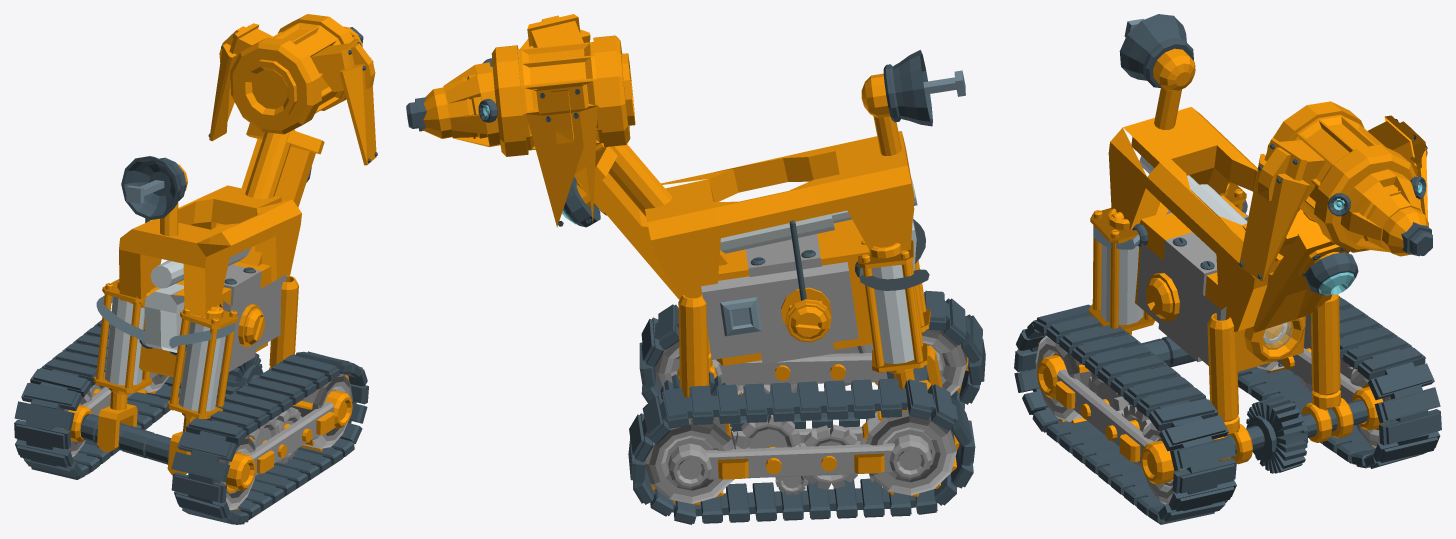
The model's file is mars-rover.glb.
The picture shows the model from 3 angles, left to right: view 1: azimuth 30°, elevation 25°; view 2: azimuth 150°, elevation 25°; view 3: azimuth 270°, elevation 25°; orthographic projection. The views are drawn at different scales.
Visible parts, largest first — view 1: group192010149, group343780156, group730140109, group1748690743, group533229908, group1092366937, group1747572662, group1024206981, group486838092, group1180262752, group1332635863, group1579868290 (+4 smaller); view 2: group730140109, group343780156, group533229908, group192010149, group1748690743, group1332635863, group1747572662, group1024206981, group1180262752, group357280235, group1874504314, group486838092 (+1 smaller); view 3: group192010149, group343780156, group730140109, group533229908, group1748690743, group486838092, group1180262752, group1874504314, group357280235, group1092366937, group1747572662, group424021502 (+5 smaller).
Part boxes in pixels (x1=…): group192010149: x1=171, y1=351, x2=368, y2=524; group343780156: x1=119, y1=185, x2=301, y2=352; group730140109: x1=14, y1=320, x2=181, y2=479; group1748690743: x1=230, y1=14, x2=353, y2=134; group533229908: x1=96, y1=218, x2=286, y2=379; group1092366937: x1=167, y1=305, x2=238, y2=419; group1747572662: x1=215, y1=123, x2=324, y2=266; group1024206981: x1=93, y1=279, x2=156, y2=394; group486838092: x1=310, y1=39, x2=377, y2=165; group1180262752: x1=121, y1=156, x2=187, y2=236; group1332635863: x1=208, y1=23, x2=272, y2=141; group1579868290: x1=80, y1=414, x2=191, y2=464; group730140109: x1=628, y1=378, x2=975, y2=524; group343780156: x1=645, y1=131, x2=917, y2=298; group533229908: x1=701, y1=219, x2=929, y2=365; group192010149: x1=639, y1=290, x2=985, y2=431; group1748690743: x1=490, y1=35, x2=635, y2=156; group1332635863: x1=526, y1=83, x2=597, y2=227; group1747572662: x1=574, y1=143, x2=727, y2=299; group1024206981: x1=858, y1=240, x2=927, y2=373; group1180262752: x1=861, y1=50, x2=965, y2=155; group357280235: x1=422, y1=62, x2=500, y2=147; group1874504314: x1=678, y1=294, x2=709, y2=418; group486838092: x1=520, y1=14, x2=590, y2=49; group192010149: x1=1014, y1=304, x2=1236, y2=524; group343780156: x1=1108, y1=107, x2=1331, y2=331; group730140109: x1=1237, y1=296, x2=1441, y2=468; group533229908: x1=1093, y1=195, x2=1311, y2=371; group1748690743: x1=1267, y1=101, x2=1416, y2=252; group486838092: x1=1239, y1=138, x2=1325, y2=281; group1180262752: x1=1119, y1=14, x2=1195, y2=129; group1874504314: x1=1301, y1=294, x2=1367, y2=442; group357280235: x1=1340, y1=169, x2=1428, y2=256; group1092366937: x1=1089, y1=208, x2=1155, y2=332; group1747572662: x1=1252, y1=208, x2=1349, y2=332; group424021502: x1=1207, y1=313, x2=1264, y2=464.
Bounding box in the file's own units: 2.58 × 2.16 × 2.
